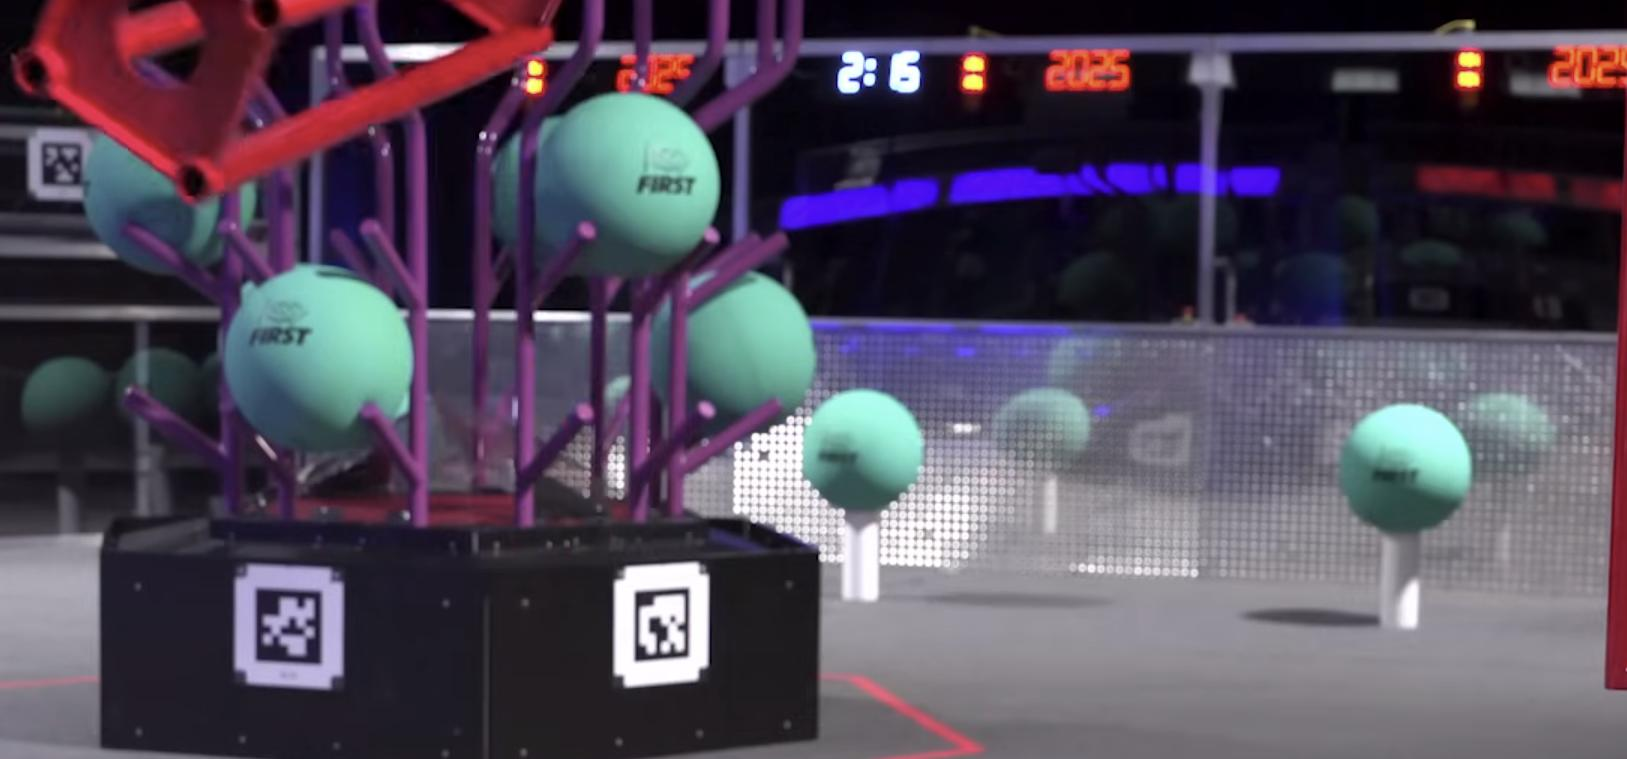algae: (224, 263, 413, 457), (530, 94, 721, 278), (649, 268, 815, 428), (82, 132, 257, 274), (1338, 404, 1472, 533), (801, 387, 925, 513), (493, 114, 564, 253), (23, 357, 114, 458)
coral: (1376, 533, 1423, 627), (845, 513, 880, 604), (58, 459, 84, 535)
